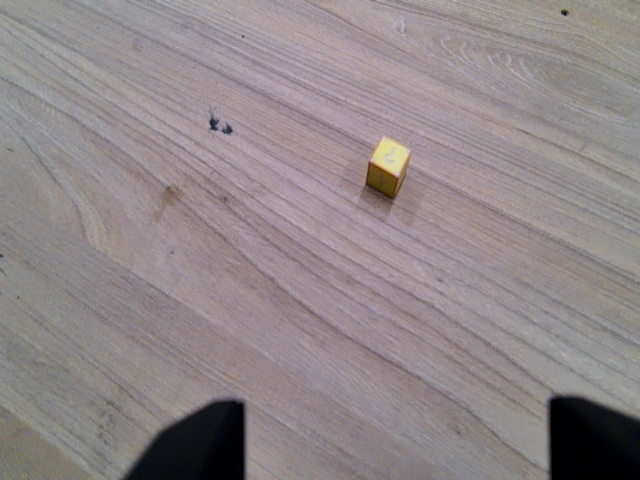lucky: (362, 134, 415, 200)
